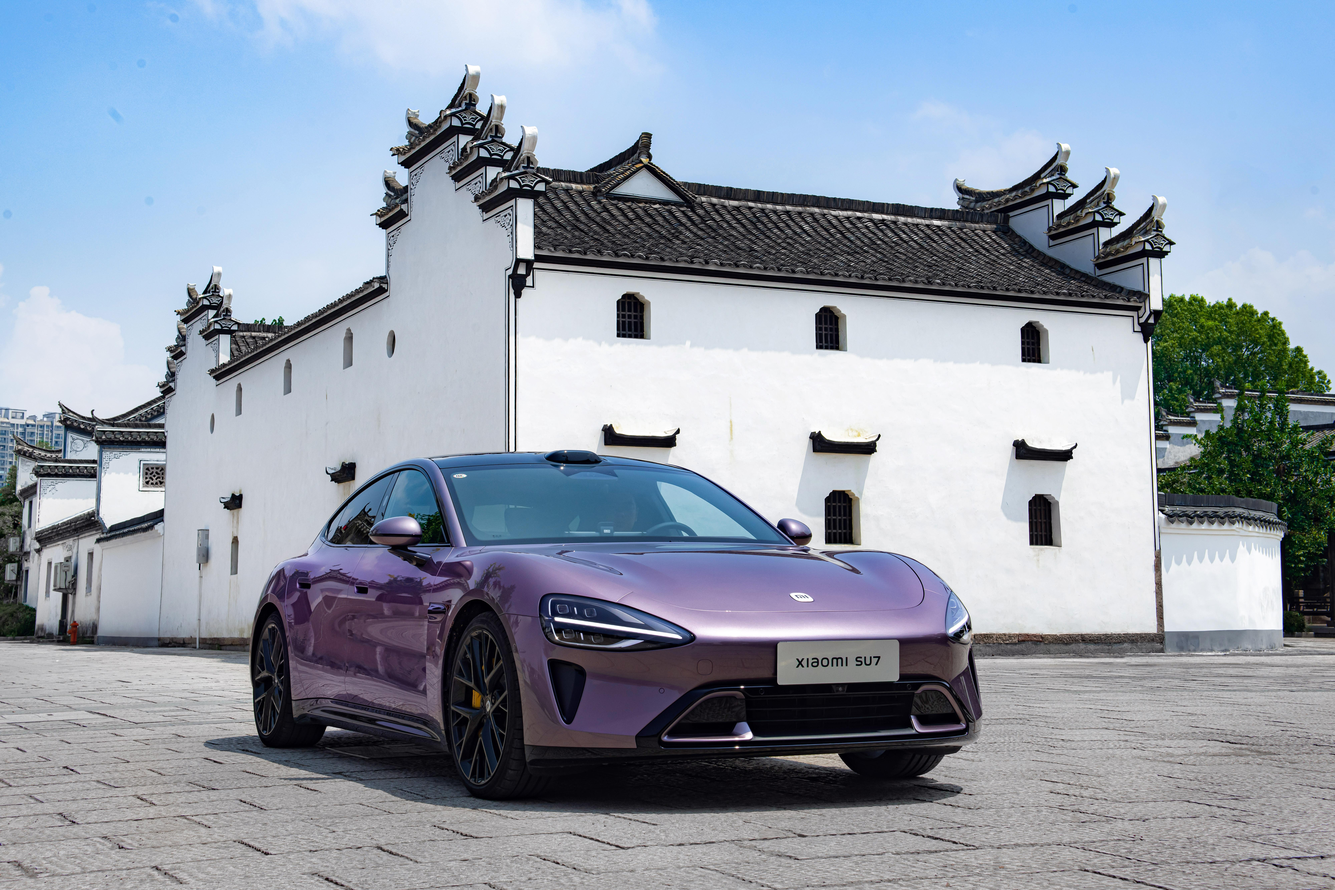XIAOMI: (790, 592, 815, 603)
